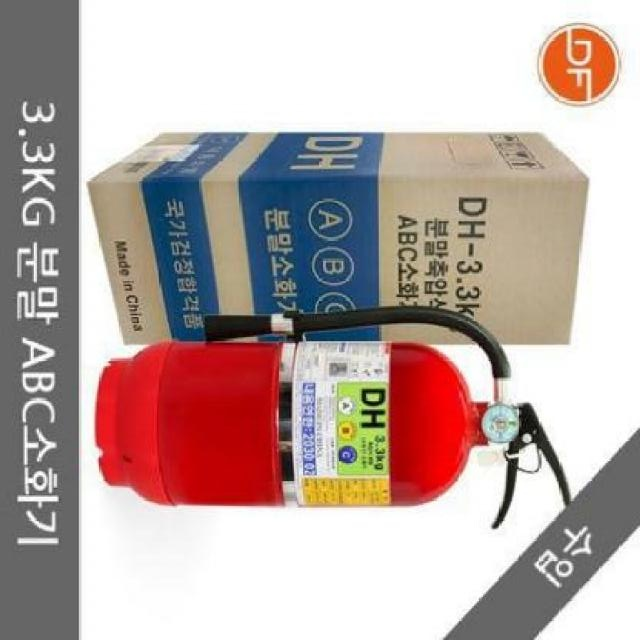fire extinguisher: (94, 305, 571, 530)
